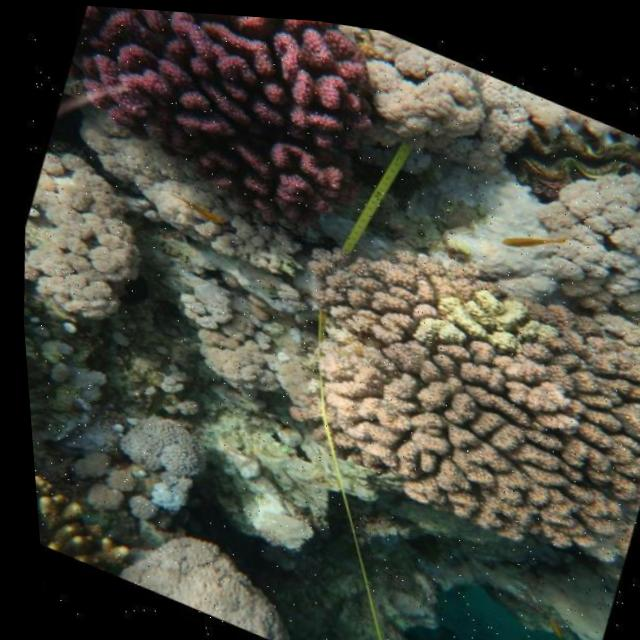Healthy Coral: (31, 2, 419, 267), (26, 451, 142, 581)
